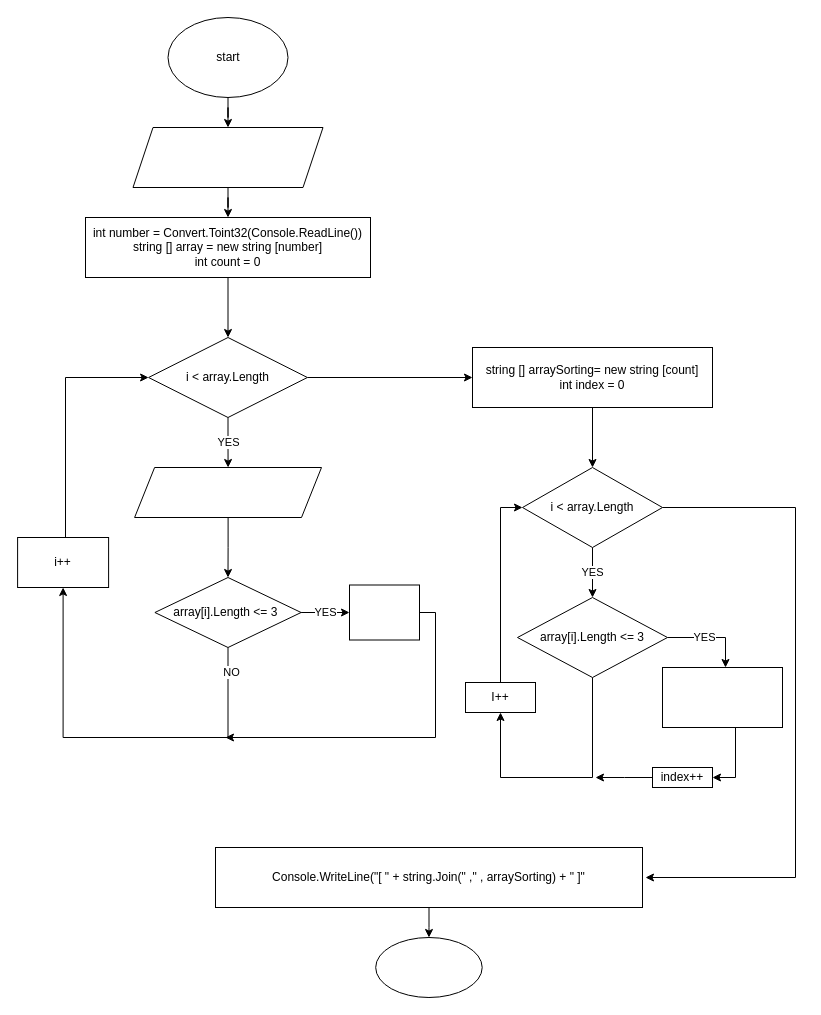
This 821x1015 diagram has some shape labels left out. Each missing label, with the box of its shape:
arraySorting[index] = array[i]: (662, 666, 782, 728)
count += 1: (348, 584, 420, 640)
end: (375, 936, 482, 998)
введите кол-во элементов массива: (132, 126, 323, 188)
заполните элемент array[i]: (134, 466, 322, 518)
